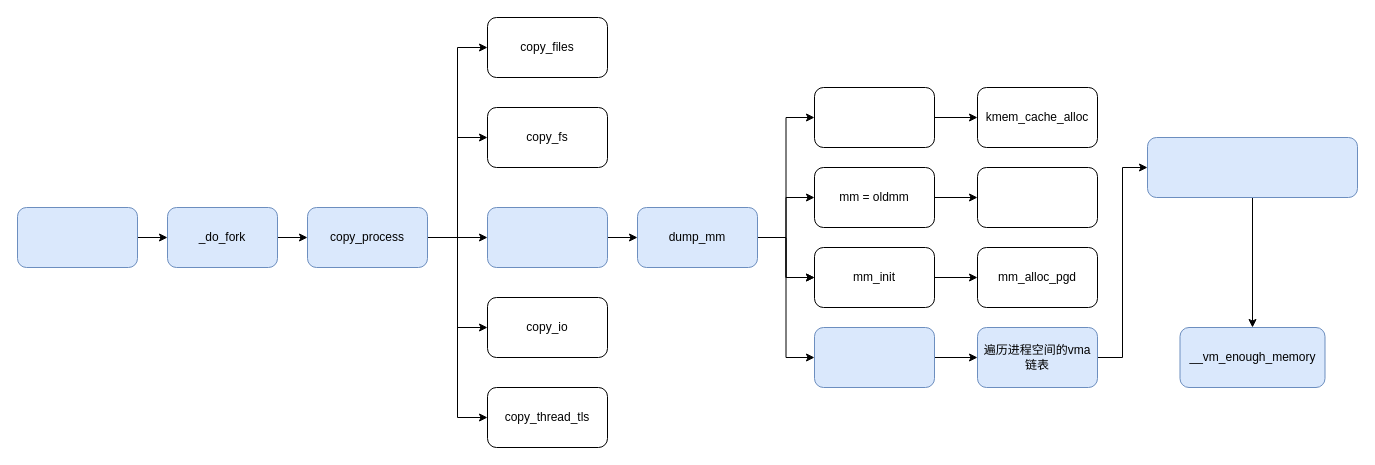
This 1375x465 diagram has some shape labels left out. The box of each missing label's shape, as (x1, y1, x2, y2) in pixels:
alloc_mm: (814, 86, 934, 148)
copy_mm: (486, 206, 608, 268)
dup_mmap: (814, 326, 934, 388)
fork: (16, 206, 138, 268)
memcpy(mm, oldmm, sizeof(*mm));: (976, 166, 1098, 228)
security_vm_enough_memory_mm: (1146, 136, 1358, 198)
